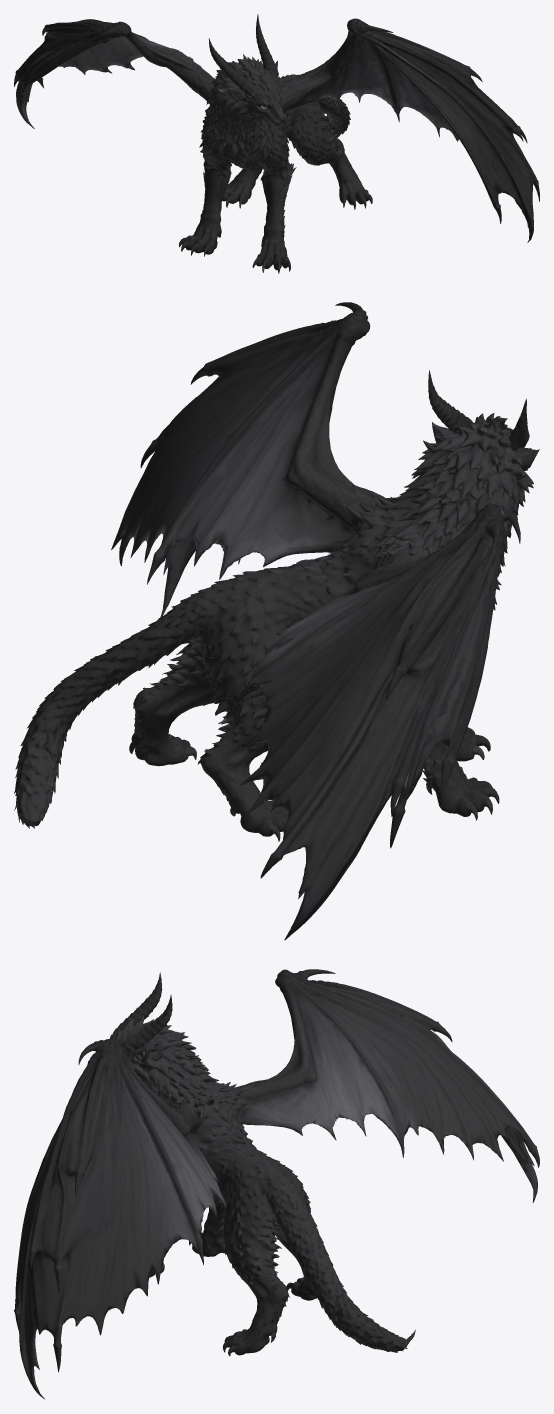
The model's file is kael-source.glb.
The picture shows the model from 3 angles, top to bottom: view 1: azimuth 30°, elevation 25°; view 2: azimuth 150°, elevation 25°; view 3: azimuth 270°, elevation 25°; orthographic projection. The views are drawn at different scales.
Parts seen in each view (by area): view 1: Mesh_0; view 2: Mesh_0; view 3: Mesh_0.
Part boxes in pixels (x1,y1,x2,y2): Mesh_0: (14, 14, 539, 273); Mesh_0: (14, 302, 539, 940); Mesh_0: (14, 969, 539, 1399).
Size of the model in its own units: 1.76 by 1.14 by 1.91.
Materials: 1 (1 with a texture image).
